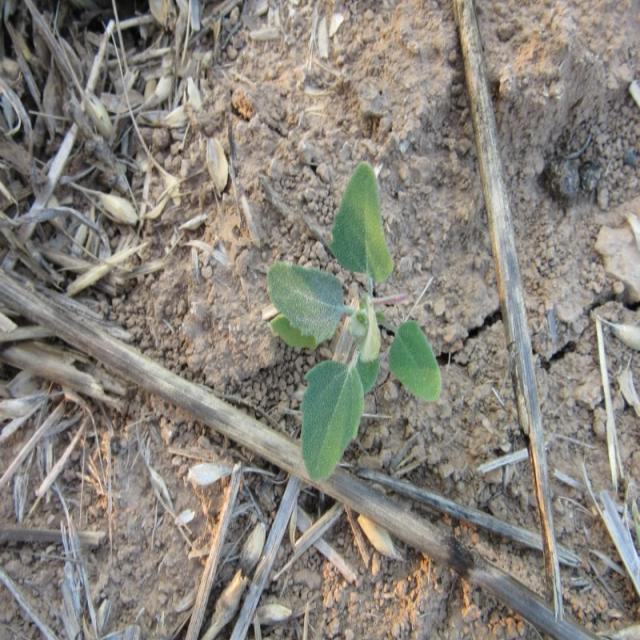ca: (266, 166, 441, 481)
